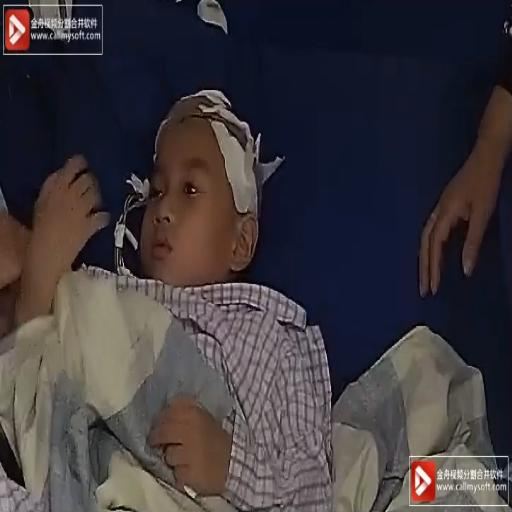Seizure: (139, 108, 271, 289)
